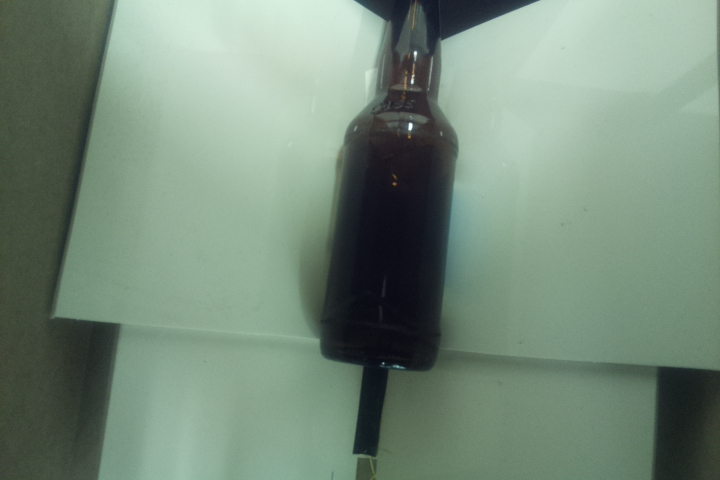makju: (318, 1, 466, 379)
